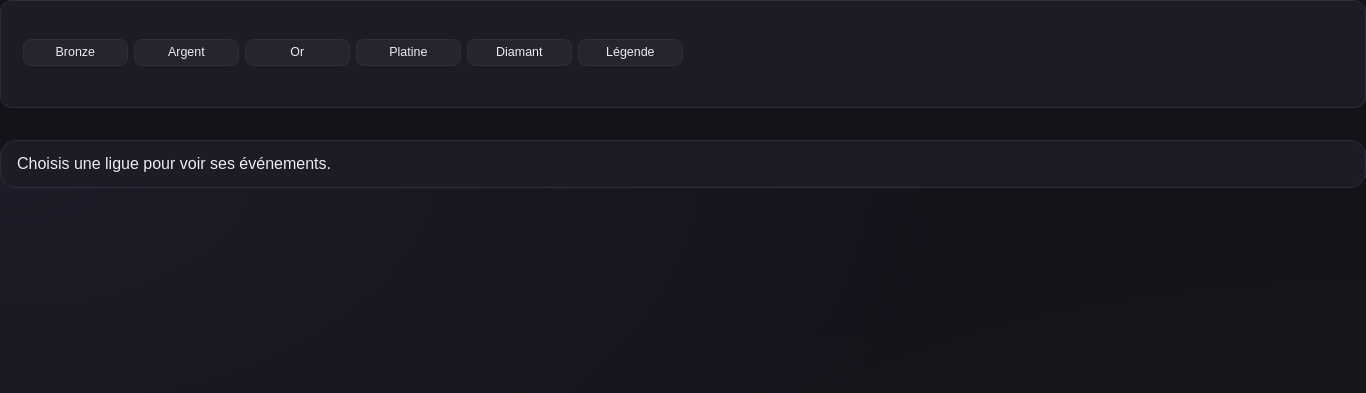
Test: EventsReferenceTable › Bloc60: shows a fully independent event list per league
Click the button "Bronze".
click(75, 52)  # box [23, 39, 128, 66]
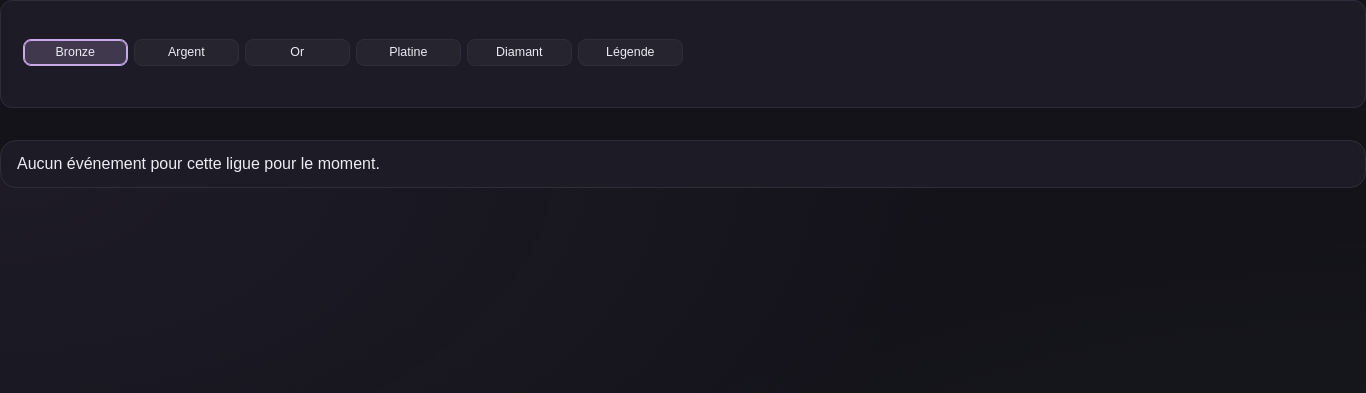
expect the text "Recruteur" is not shown: met
Click the button "Légende".
click(630, 52)  # box [578, 39, 683, 66]
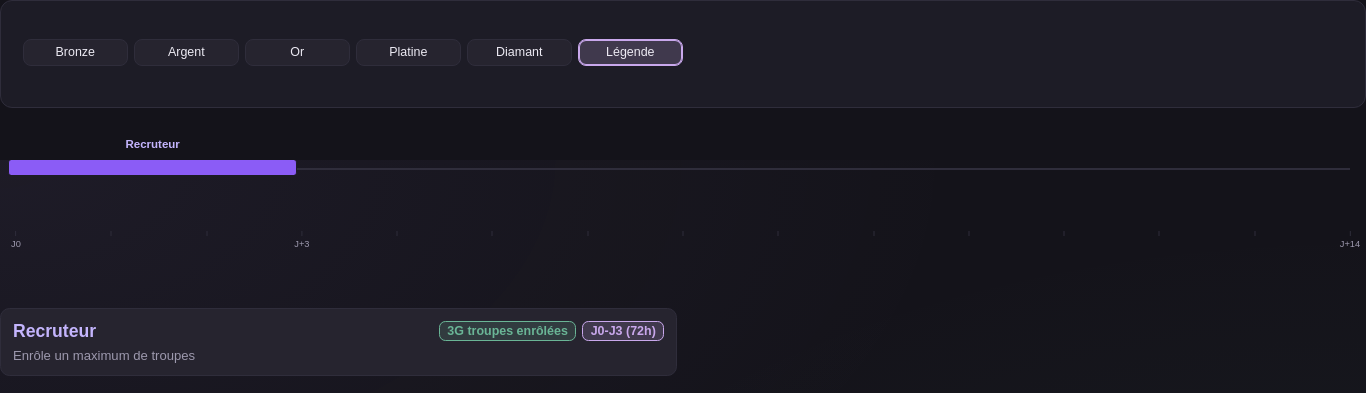
expect the text "Recruteur" in the row of "3G troupes enrôlées" is shown: met, box [13, 321, 96, 341]
